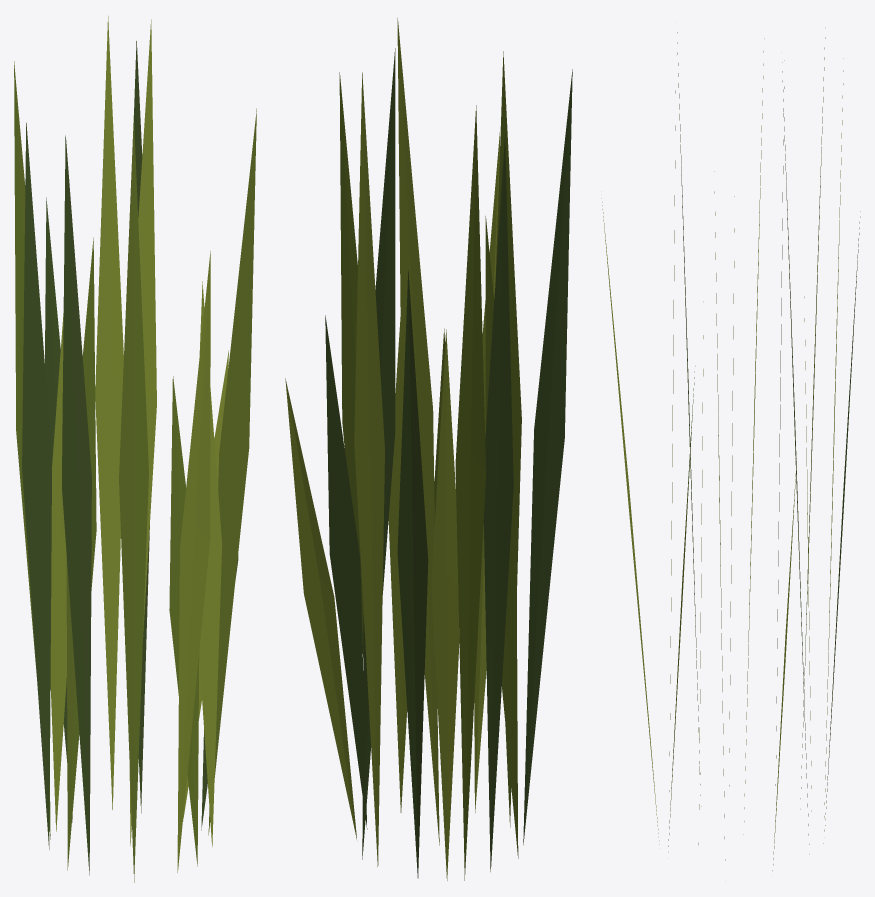
Rendered from meadow_grass.glb.
3 views of the same model, side by side, from view 1: azimuth 30°, elevation 25°; view 2: azimuth 150°, elevation 25°; view 3: azimuth 270°, elevation 25° (orthographic). The views are drawn at different scales.
Visible parts, largest first — view 1: body; view 2: body; view 3: body.
Boxes of the visible parts, x1,y1,x2,y2 form: body: (14,16,256,882); body: (285,18,572,880); body: (601,27,860,870).
Bounding box in the file's own units: 0.2509 × 0.88 × 0.2482.
